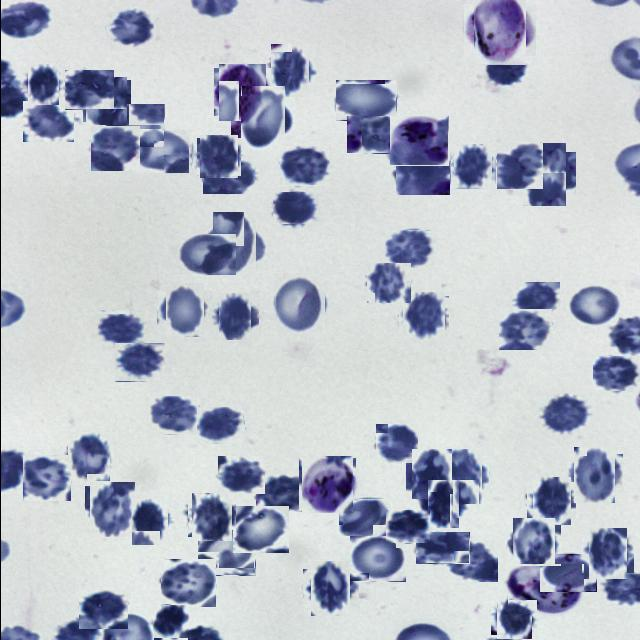difficult: (468, 0, 530, 61)
gametocyte: (215, 65, 268, 118)
red blood cell: (271, 276, 327, 332), (207, 217, 261, 271), (516, 147, 570, 201), (235, 90, 289, 144), (104, 104, 164, 148), (160, 559, 215, 607), (232, 506, 288, 553), (197, 530, 254, 576), (349, 536, 405, 582), (335, 80, 396, 121), (86, 484, 136, 534), (395, 149, 449, 195), (136, 130, 192, 174), (178, 234, 236, 276), (570, 450, 618, 500), (436, 452, 484, 500), (306, 564, 354, 612), (509, 521, 557, 569), (443, 540, 497, 582), (88, 126, 138, 171), (346, 116, 405, 154), (566, 284, 620, 325), (22, 455, 70, 501), (498, 309, 551, 350), (539, 554, 596, 592), (160, 287, 207, 333), (496, 142, 542, 189), (400, 294, 446, 340), (266, 48, 312, 94), (65, 434, 111, 480), (22, 101, 73, 142), (255, 474, 309, 512), (279, 146, 330, 186), (584, 532, 630, 576), (84, 78, 128, 124), (105, 6, 153, 48), (64, 70, 114, 110), (114, 343, 165, 382), (408, 452, 453, 496), (338, 499, 390, 537), (202, 156, 254, 194), (148, 396, 199, 434), (528, 479, 572, 523), (189, 494, 233, 538), (78, 590, 127, 629), (384, 230, 434, 268), (96, 310, 146, 348), (542, 393, 589, 433), (511, 282, 559, 320), (366, 262, 409, 304), (217, 456, 264, 494), (196, 407, 244, 444), (452, 146, 494, 188), (592, 356, 640, 392), (415, 532, 469, 564), (375, 424, 418, 464), (128, 502, 170, 542), (198, 136, 238, 178), (482, 51, 529, 86), (493, 597, 533, 638), (214, 296, 254, 336), (422, 484, 462, 524), (385, 510, 430, 544), (272, 192, 318, 224), (24, 66, 60, 102), (152, 604, 188, 640)
trophozoite: (507, 564, 583, 614), (389, 116, 448, 166), (300, 457, 354, 511)
